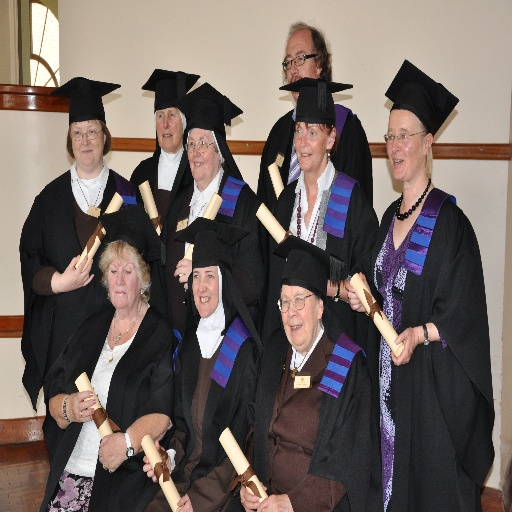hand: (56, 254, 95, 293), (141, 438, 172, 483), (389, 325, 420, 368), (97, 430, 126, 475), (345, 271, 372, 317), (65, 387, 97, 424), (239, 480, 268, 511), (172, 256, 192, 289), (258, 491, 289, 511), (174, 492, 193, 511), (340, 277, 348, 302)
